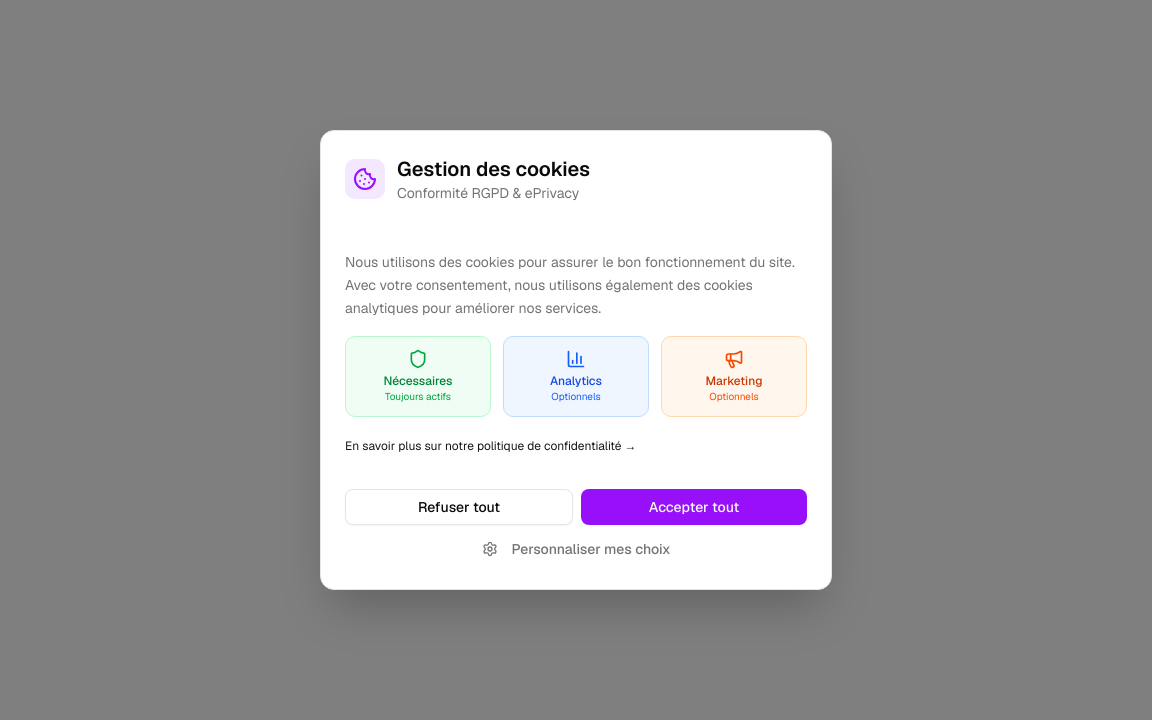
Scenario: CookieConsentBanner - Settings Panel › [COOKIE-026] should close settings panel with X button
Expected: the text "Gestion des cookies" is shown, [397,155,590,183]
Click the button "Personnaliser mes choix". click: x=576, y=549
box: [345,533,807,565]
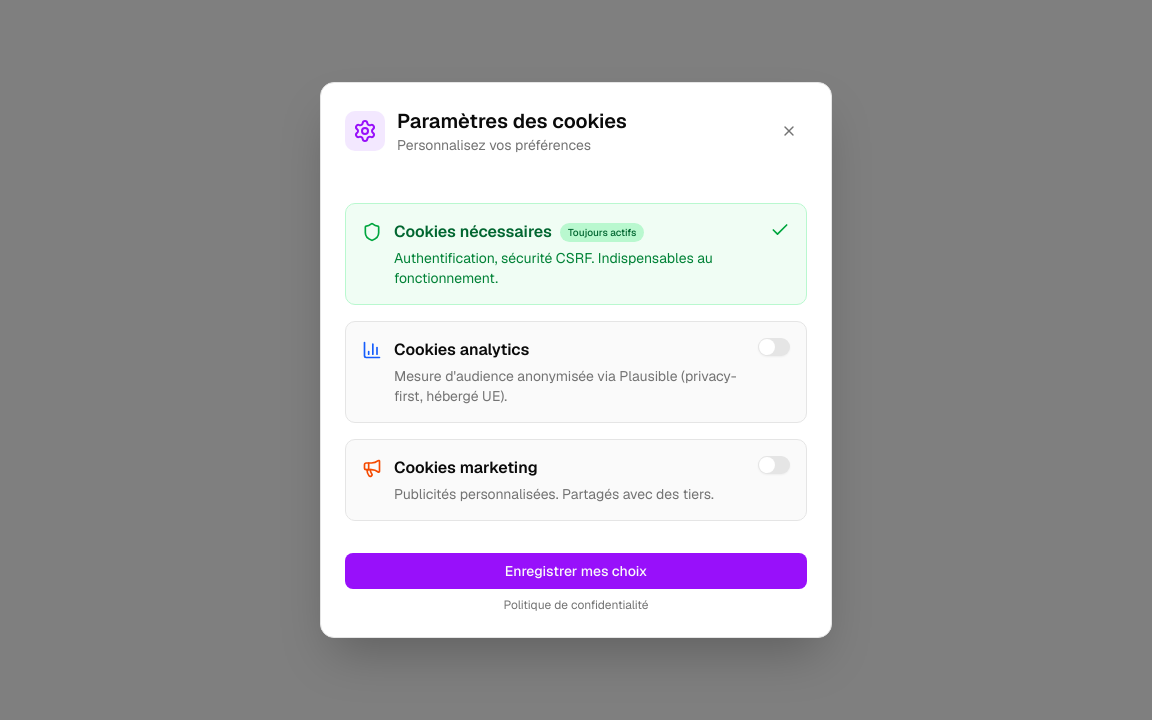
Now the text "Paramètres des cookies" is shown, box [397,107,627,135]
Now the 1st button is shown
Click the 1st button. click: x=789, y=131
box: [771,113,807,149]
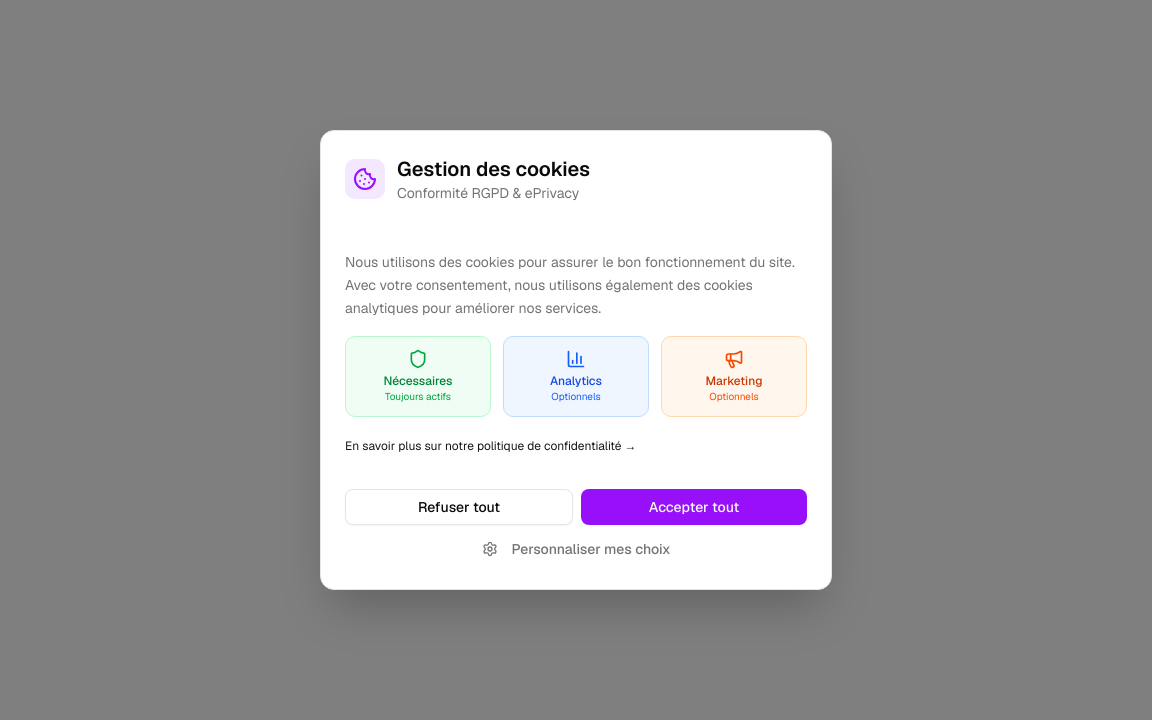
Now the text "Paramètres des cookies" is gone
Now the text "Gestion des cookies" is shown, box [397,155,590,183]
